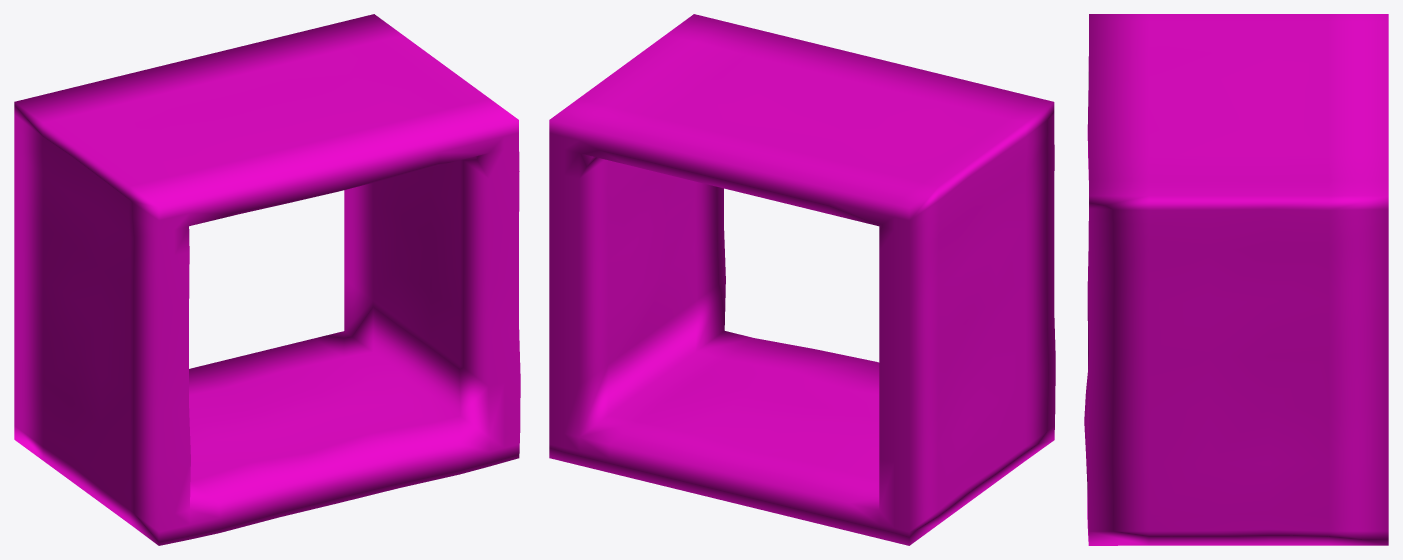
File: level1.fbx
3 views of the same model, side by side, from view 1: azimuth 30°, elevation 25°; view 2: azimuth 150°, elevation 25°; view 3: azimuth 270°, elevation 25° (orthographic). The views are drawn at different scales.
Parts seen in each view (by area): view 1: Cube; view 2: Cube; view 3: Cube.
Boxes of the visible parts, x1,y1,x2,y2 form: Cube: (14, 14, 520, 545); Cube: (549, 14, 1055, 545); Cube: (1084, 14, 1388, 545).
Size of the model in its own units: 2696 by 2416 by 1894.
